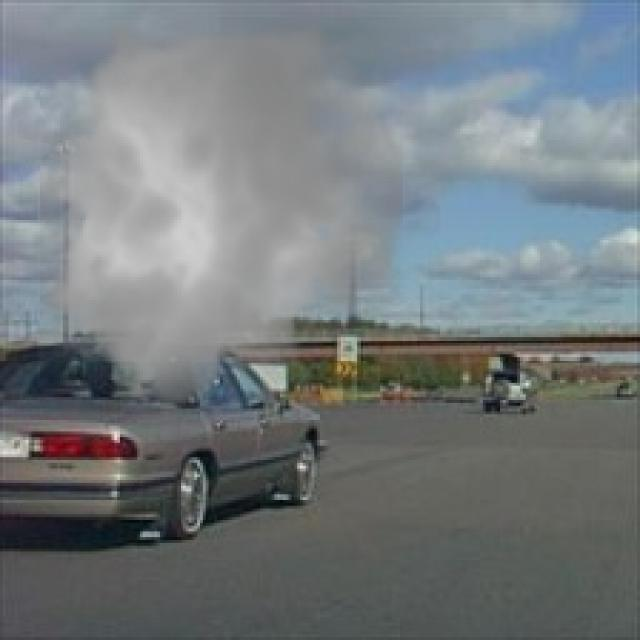Smoke: (20, 3, 417, 423)
